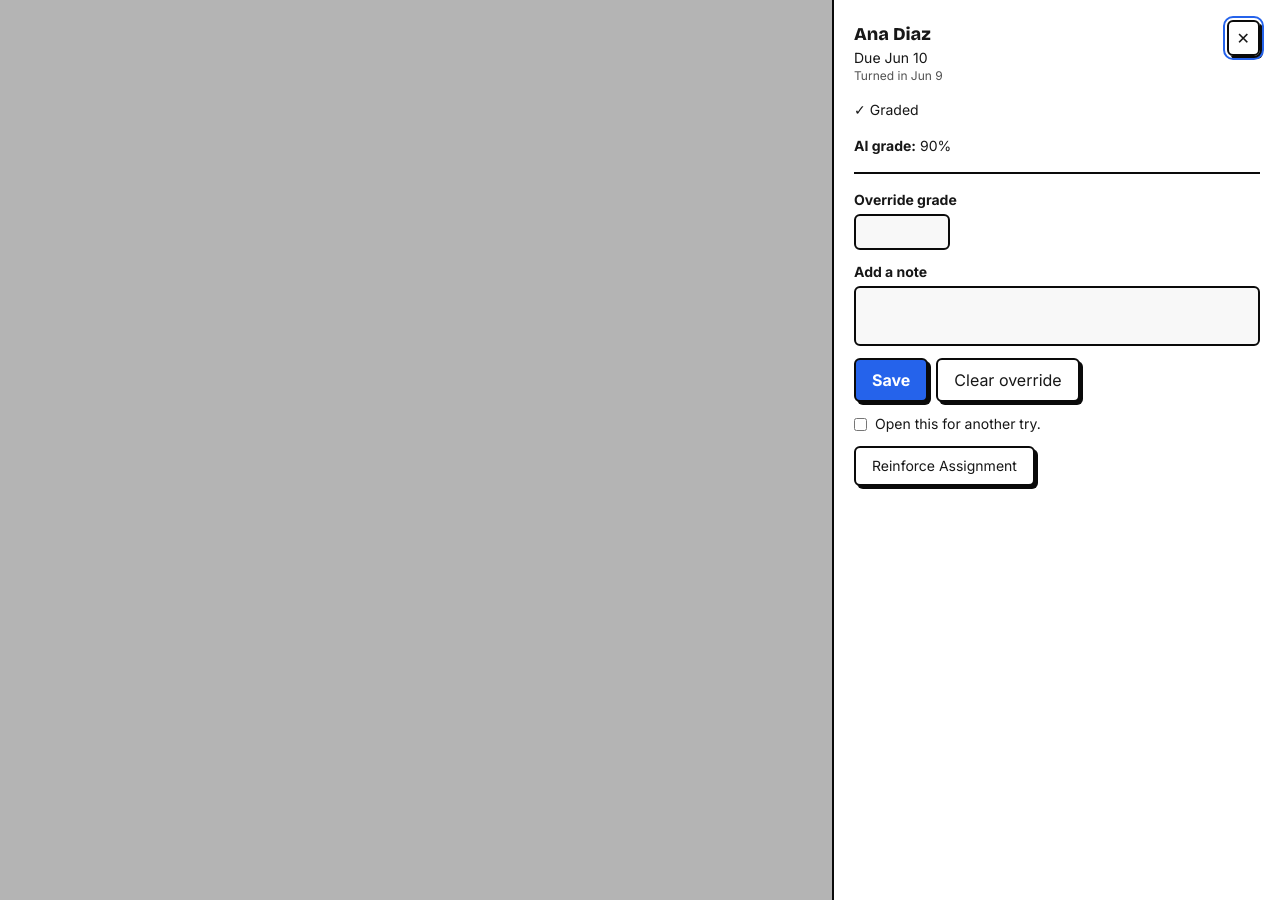
Test: GradebookDrillIn — Reinforce Assignment button › shows an error state on a non-202 response
The width and height of the screenshot is (1280, 900).
What coordinates should you click on to do the following:
click the button "Reinforce Assignment"
I would click on:
 (944, 466)
Its box is [854,446,1035,486].
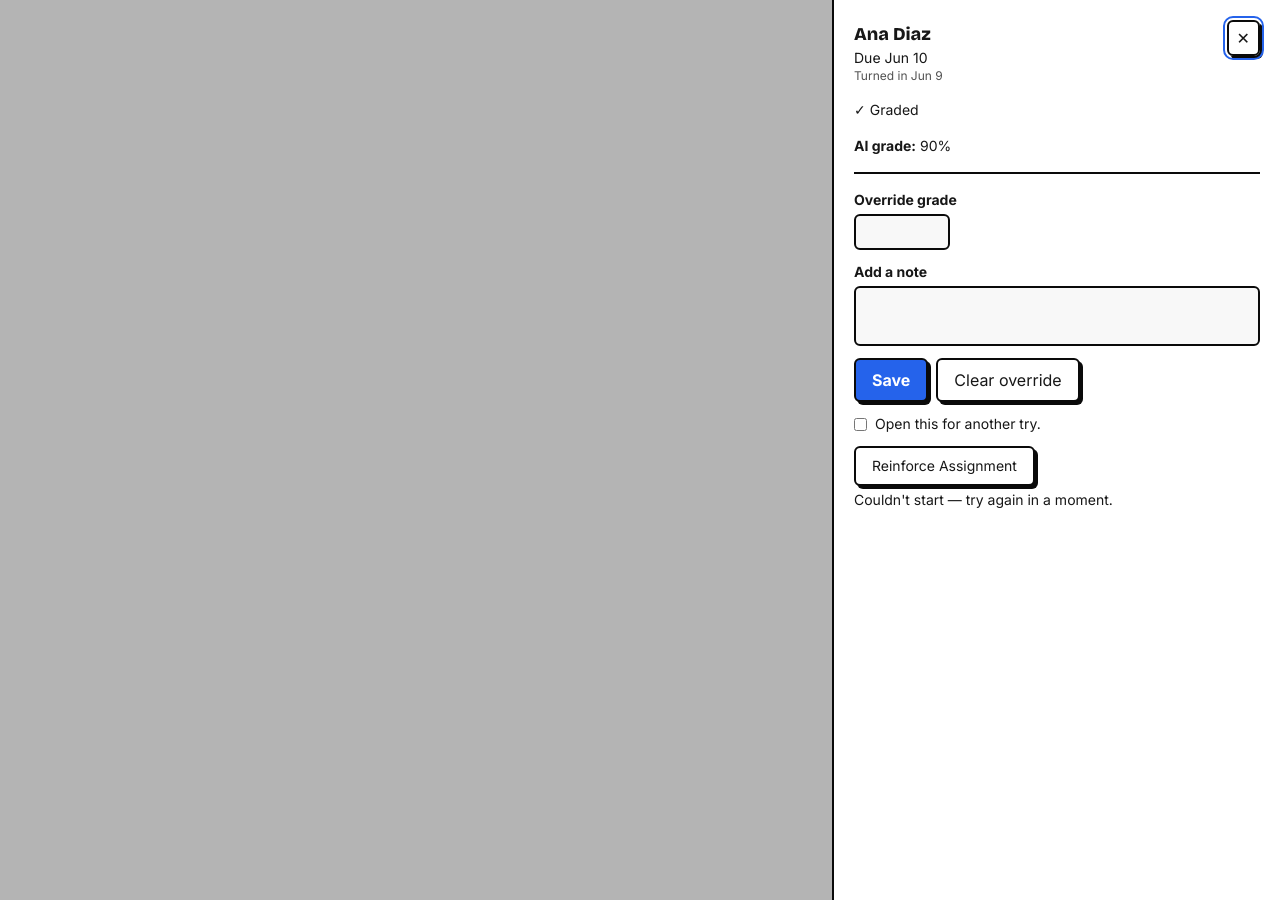
Now the text "Couldn't start — try again in a moment." is shown, box [854,491,1113,508]
